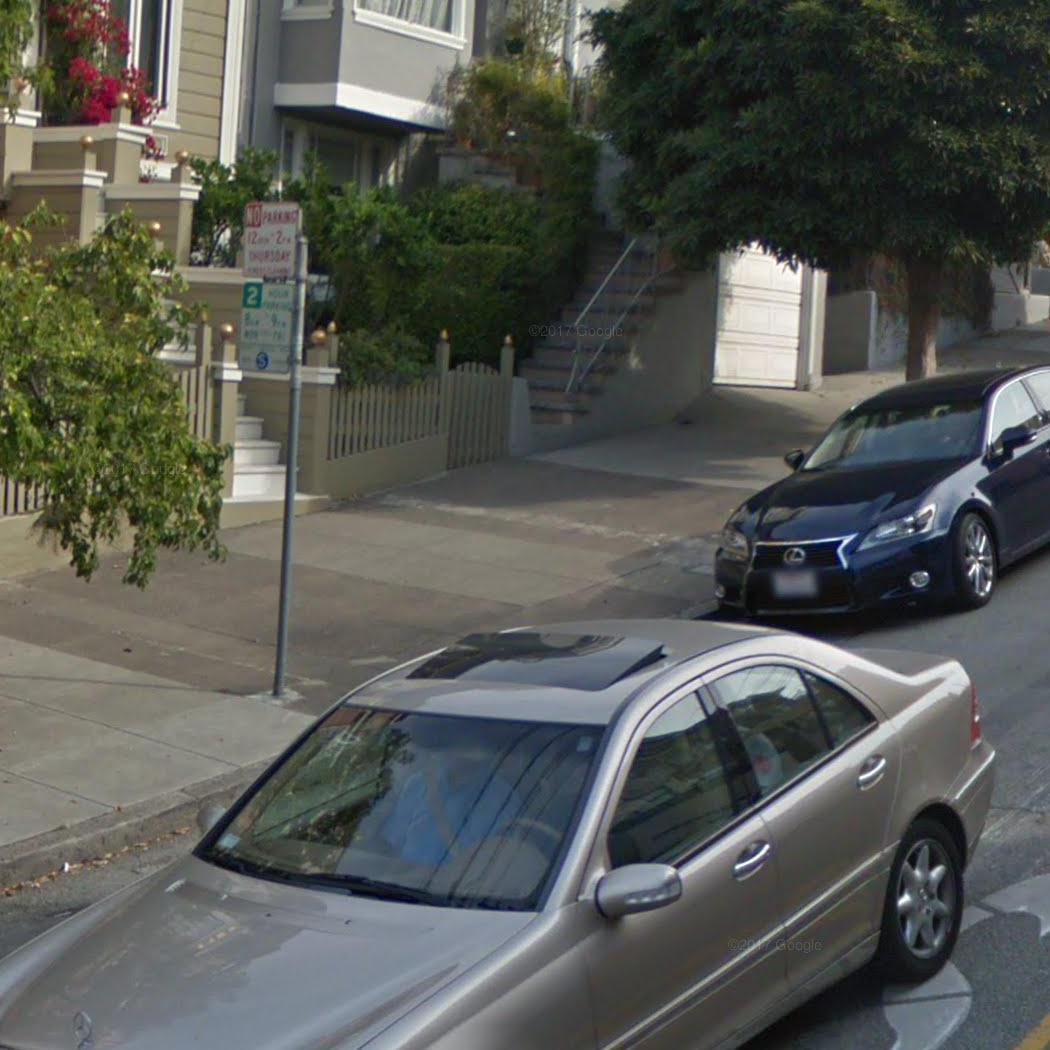2 Hour Parking: (231, 281, 303, 378)
No Parking: (240, 198, 305, 281)
